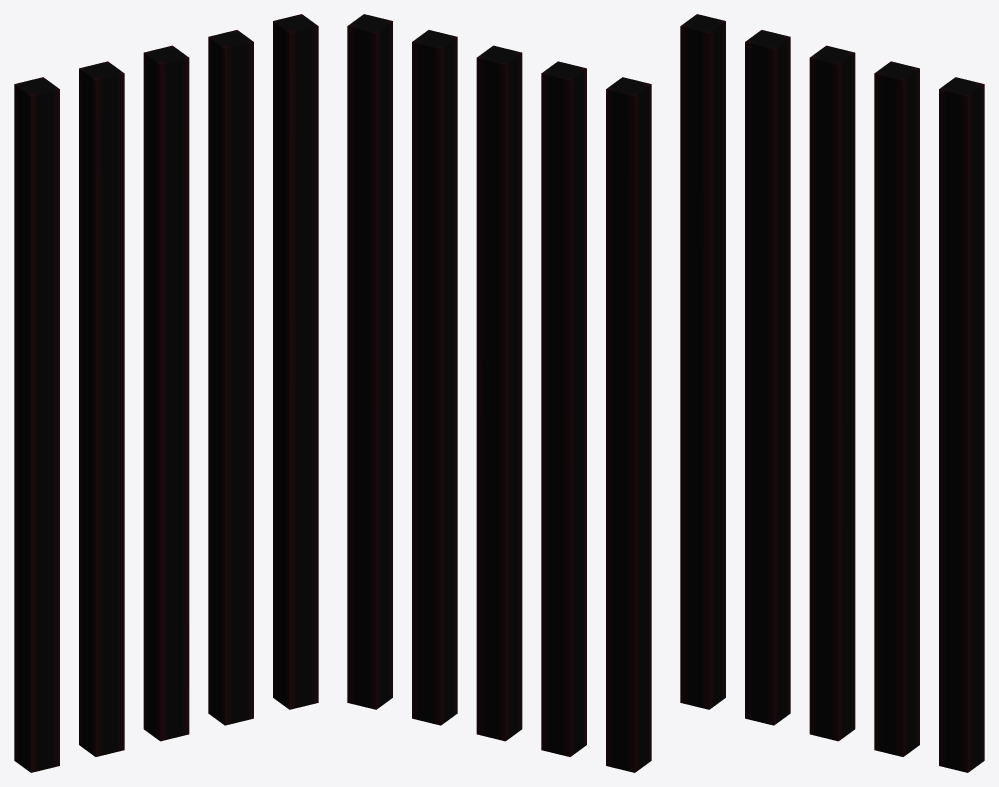
Rendered from lockdown_gate.glb.
3 renders of one model, left to right at view 1: azimuth 30°, elevation 25°; view 2: azimuth 150°, elevation 25°; view 3: azimuth 330°, elevation 25°, orthographic.
Parts seen in each view (by area): view 1: gate_bars; view 2: gate_bars; view 3: gate_bars.
Part boxes in pixels (x1,y1,x2,y2): gate_bars: (14,14,318,772); gate_bars: (347,14,651,772); gate_bars: (680,14,984,772).
Bounding box in the file's own units: 0.89 × 2 × 0.09.
